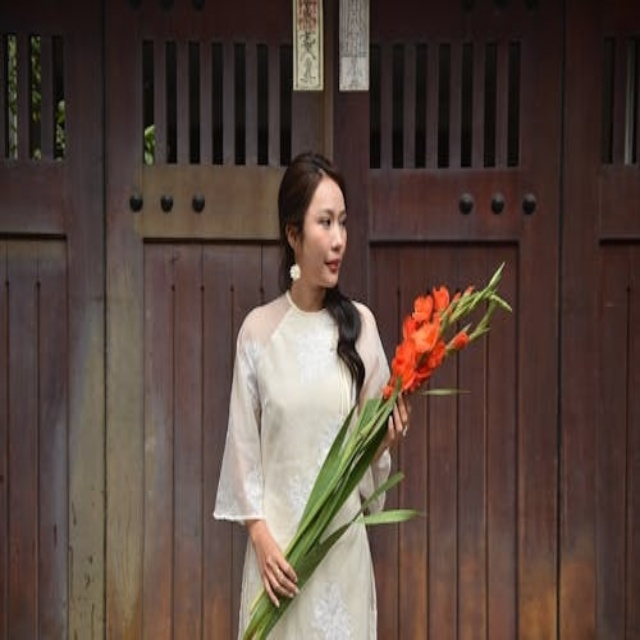Sin_gafas: (308, 207, 353, 232)
Sin_guantes: (241, 519, 302, 613), (370, 379, 419, 460)
Sin_mascara: (316, 253, 346, 278)
